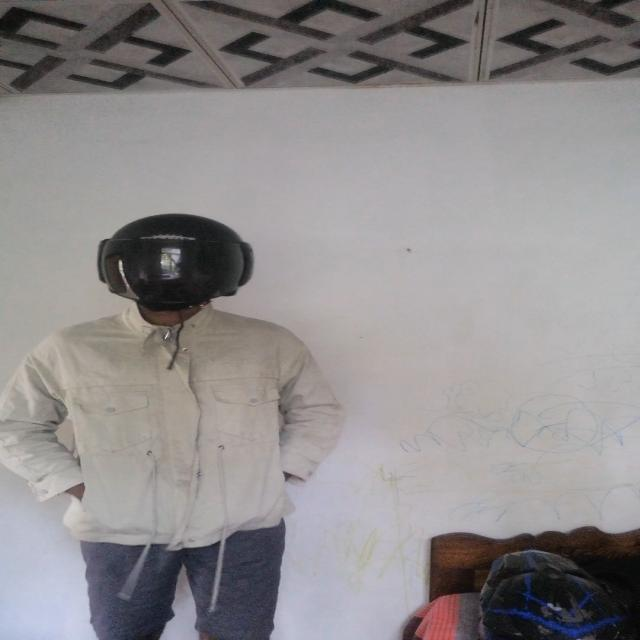Helmet_Wearer: (85, 214, 262, 338)
Jacket_Wearer: (6, 295, 344, 533)
Person: (2, 211, 364, 635)
